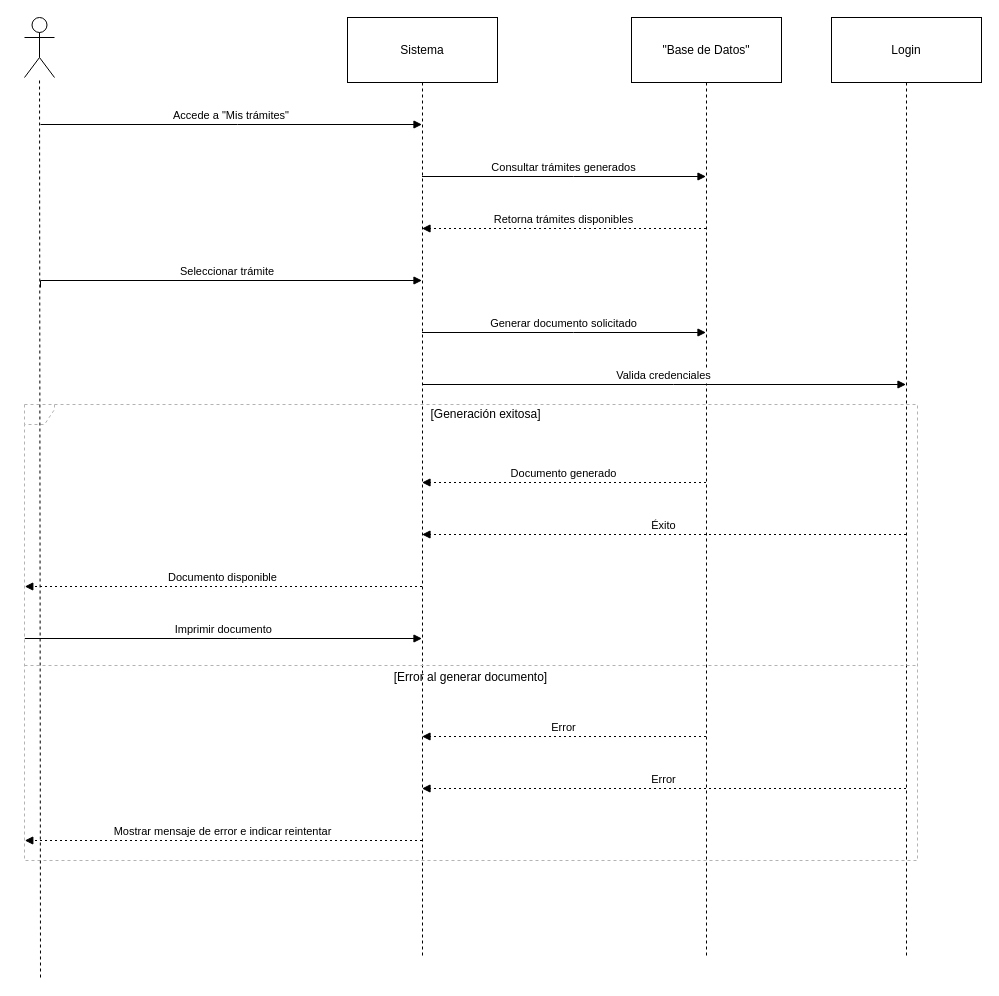
Some shapes in this 999 by 996 pixel diagram are drawn without their labels. Here are the shapes that lost their labels. From the top down, the centre of each, then its label:
(39,47): Usuario
(471,632): alt
